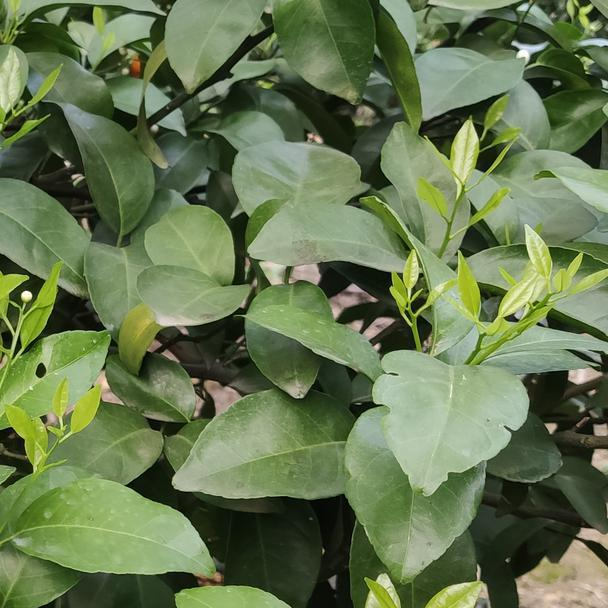shoot: (462, 248, 608, 363), (424, 119, 517, 245), (12, 388, 105, 478), (390, 264, 447, 352)
